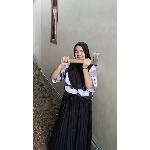Kapak: (56, 52, 103, 68)
